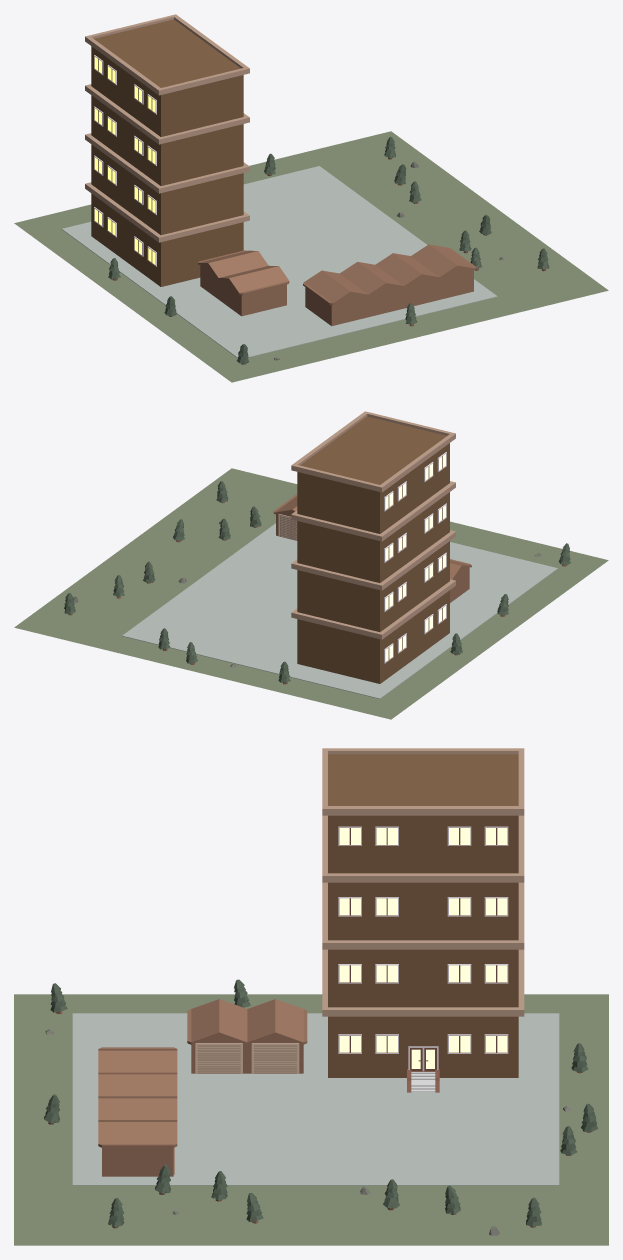
The model's file is Building.glb.
3 renders of one model, top to bottom at view 1: azimuth 30°, elevation 25°; view 2: azimuth 150°, elevation 25°; view 3: azimuth 270°, elevation 25°, orthographic. The views are drawn at different scales.
Parts seen in each view (by area): view 1: Building, Plane.005, Plane.001, GaragesQuad, GaragesDouble, window2.002, window2.004, window2.003, window2.001; view 2: Building, Plane.005, Plane.001, GaragesDouble, window2.004, window2.003, window2.001, window2.002, GDOOR1; view 3: Building, Plane.005, Plane.001, GaragesQuad, GaragesDouble, window2.001, window2.002, window2.003, window2.004, GDOOR6, GDOOR5, door (+1 smaller).
Part boxes in pixels (box(x1,y1,x2,y2)): Building: box(85, 14, 249, 286); Plane.005: box(14, 131, 608, 382); Plane.001: box(62, 166, 497, 357); GaragesQuad: box(303, 244, 476, 326); GaragesDouble: box(198, 250, 289, 316); window2.002: box(94, 106, 156, 165); window2.004: box(94, 55, 156, 114); window2.003: box(94, 207, 156, 266); window2.001: box(94, 155, 156, 214); Building: box(291, 411, 455, 683); Plane.005: box(14, 468, 608, 719); Plane.001: box(122, 523, 557, 698); GaragesDouble: box(450, 559, 471, 602); window2.004: box(384, 452, 446, 511); window2.003: box(384, 604, 446, 663); window2.001: box(384, 552, 446, 611); window2.002: box(384, 503, 446, 562); GDOOR1: box(278, 514, 297, 540); Building: box(322, 748, 524, 1077); Plane.005: box(14, 994, 608, 1245); Plane.001: box(72, 1013, 559, 1185); GaragesQuad: box(98, 1047, 177, 1176); GaragesDouble: box(187, 999, 307, 1073); window2.001: box(338, 964, 508, 983); window2.002: box(338, 897, 508, 916); window2.003: box(338, 1034, 508, 1053); window2.004: box(338, 826, 508, 845); GDOOR6: box(251, 1043, 299, 1073); GDOOR5: box(195, 1043, 242, 1073); door: box(408, 1046, 438, 1071).
Bounding box in the file's own units: 120 × 61.98 × 120.
